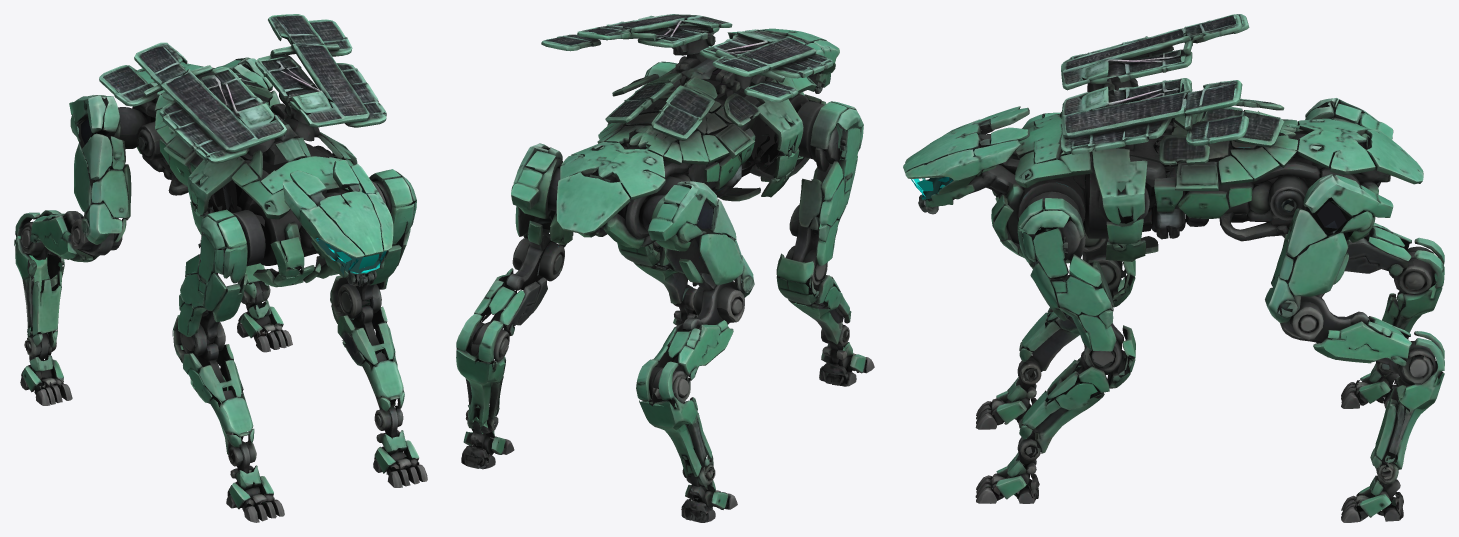
The model's file is mecha_04.glb.
3 views of the same model, side by side, from view 1: azimuth 30°, elevation 25°; view 2: azimuth 150°, elevation 25°; view 3: azimuth 270°, elevation 25° (orthographic). The views are drawn at different scales.
Parts seen in each view (by area): view 1: part_005_DORSAL_MODULE, part_013_AFT_REACTOR, part_002_FRONT_THIGH_L, part_009_HEAD_SENSOR, part_026_DORSAL_MODULE, part_004_REAR_SHIN_L, part_014_FRONT_PAW_L, part_023_DORSAL_MODULE, part_022_FRONT_PAW_R, part_006_HEAD_SENSOR, part_024_DORSAL_MODULE, part_001_REAR_PAW_R (+24 smaller); view 2: part_008_AFT_REACTOR, part_001_REAR_PAW_R, part_002_FRONT_THIGH_L, part_013_AFT_REACTOR, part_004_REAR_SHIN_L, part_000_DORSAL_MODULE, part_005_DORSAL_MODULE, part_020_DORSAL_MODULE, part_030_DORSAL_MODULE, part_019_REAR_THIGH_L, part_012_REAR_THIGH_R, part_011_AFT_REACTOR (+19 smaller); view 3: part_000_DORSAL_MODULE, part_018_FRONT_THIGH_R, part_008_AFT_REACTOR, part_001_REAR_PAW_R, part_012_REAR_THIGH_R, part_005_DORSAL_MODULE, part_026_DORSAL_MODULE, part_009_HEAD_SENSOR, part_011_AFT_REACTOR, part_022_FRONT_PAW_R, part_003_DORSAL_MODULE, part_004_REAR_SHIN_L (+23 smaller).
Boxes of the visible parts, box(x1,y1,x2,y2) form: part_005_DORSAL_MODULE: box(134, 42, 286, 163); part_013_AFT_REACTOR: box(69, 95, 131, 244); part_002_FRONT_THIGH_L: box(172, 216, 247, 391); part_009_HEAD_SENSOR: box(282, 160, 393, 286); part_026_DORSAL_MODULE: box(268, 14, 369, 127); part_004_REAR_SHIN_L: box(14, 210, 93, 360); part_014_FRONT_PAW_L: box(183, 344, 256, 478); part_023_DORSAL_MODULE: box(231, 135, 362, 219); part_022_FRONT_PAW_R: box(337, 306, 404, 411); part_006_HEAD_SENSOR: box(300, 184, 383, 284); part_024_DORSAL_MODULE: box(185, 209, 265, 283); part_001_REAR_PAW_R: box(237, 263, 292, 352); part_008_AFT_REACTOR: box(556, 123, 729, 234); part_001_REAR_PAW_R: box(456, 277, 547, 469); part_002_FRONT_THIGH_L: box(776, 108, 863, 304); part_013_AFT_REACTOR: box(647, 181, 754, 297); part_004_REAR_SHIN_L: box(636, 355, 715, 487); part_000_DORSAL_MODULE: box(579, 78, 772, 248); part_005_DORSAL_MODULE: box(699, 29, 833, 82); part_020_DORSAL_MODULE: box(746, 79, 803, 197); part_030_DORSAL_MODULE: box(651, 76, 760, 140); part_019_REAR_THIGH_L: box(668, 258, 744, 358); part_012_REAR_THIGH_R: box(505, 206, 566, 293); part_011_AFT_REACTOR: box(511, 143, 562, 218); part_000_DORSAL_MODULE: box(1084, 130, 1390, 253); part_018_FRONT_THIGH_R: box(1022, 198, 1143, 351); part_008_AFT_REACTOR: box(1218, 118, 1423, 185); part_001_REAR_PAW_R: box(1316, 316, 1444, 522); part_012_REAR_THIGH_R: box(1265, 231, 1369, 342); part_005_DORSAL_MODULE: box(1061, 14, 1242, 90); part_026_DORSAL_MODULE: box(1061, 80, 1242, 138); part_009_HEAD_SENSOR: box(905, 106, 1029, 212); part_011_AFT_REACTOR: box(1287, 174, 1393, 257); part_022_FRONT_PAW_R: box(1019, 357, 1109, 453); part_003_DORSAL_MODULE: box(1082, 76, 1174, 224); part_004_REAR_SHIN_L: box(1376, 237, 1444, 375).
Size of the model in its own units: 0.5654 by 0.8239 by 0.9991.
45 materials, 45 textured.
